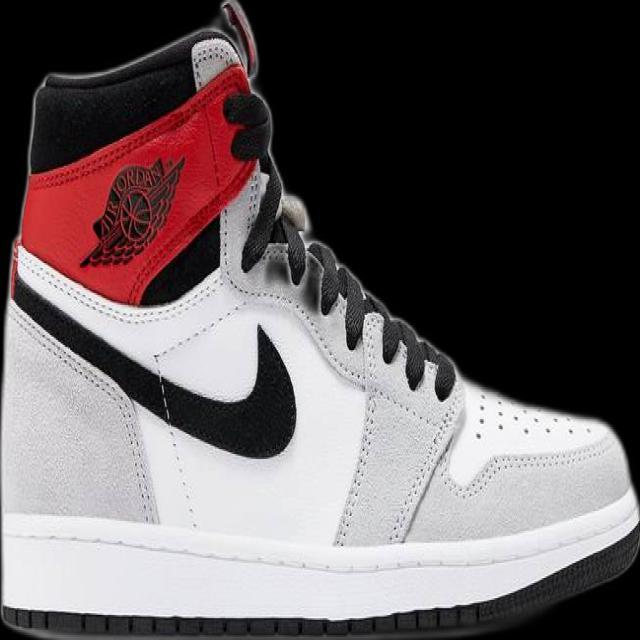J1_InsoleChar: (0, 0, 638, 639)
J1_ShoeLogo: (77, 153, 186, 269)
J1_StitchPattern: (186, 35, 465, 546), (239, 168, 458, 401), (311, 242, 464, 546), (9, 297, 160, 524), (188, 36, 308, 286), (304, 237, 458, 400), (332, 385, 463, 546), (332, 310, 385, 546), (442, 436, 616, 501), (147, 349, 203, 530), (238, 150, 308, 286), (306, 239, 376, 349), (470, 389, 598, 444), (188, 36, 241, 91)
